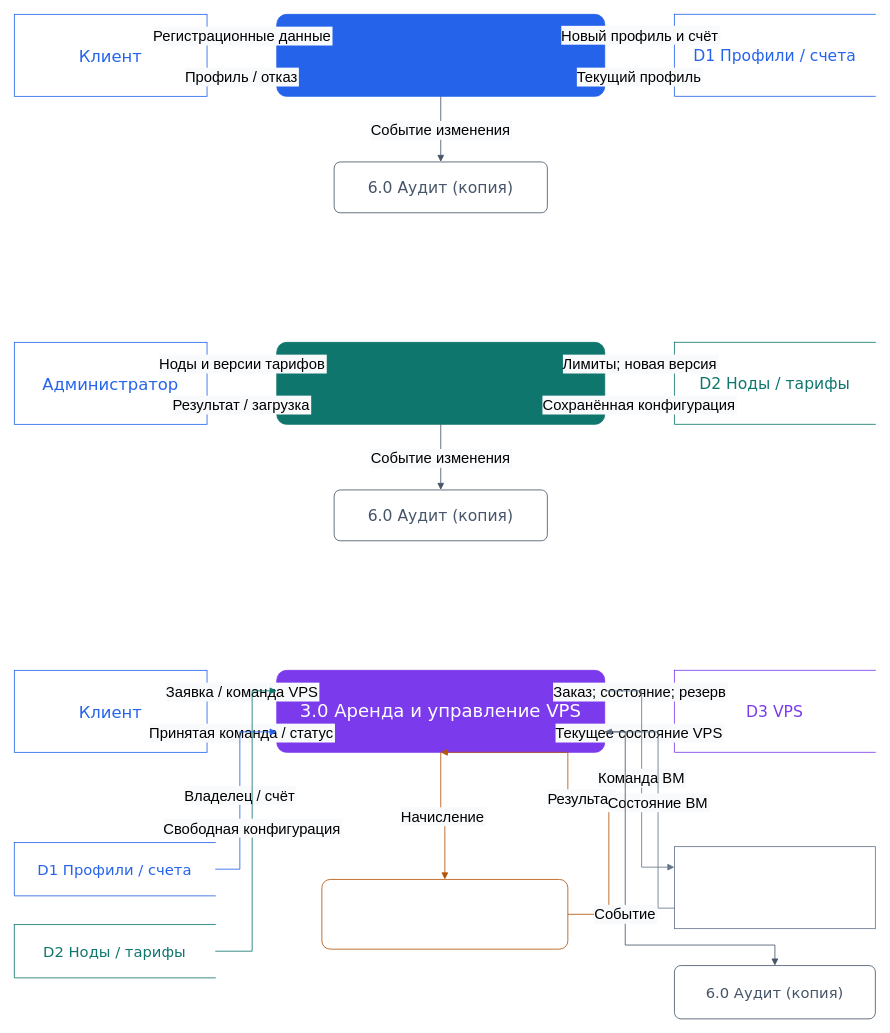
The diagram is 890 pixels wide and 1033 high, and some of its shapes have lost their labels. Here are the shapes that lost their labels. From the top down, the centre of each, then its label:
At (440,55): "1.0 Регистрация и профиль".
At (440,383): "2.0 Инфраструктура".
At (774,887): "Гипервизор".
At (444,914): "4.0 Финансовый учёт (копия)".
